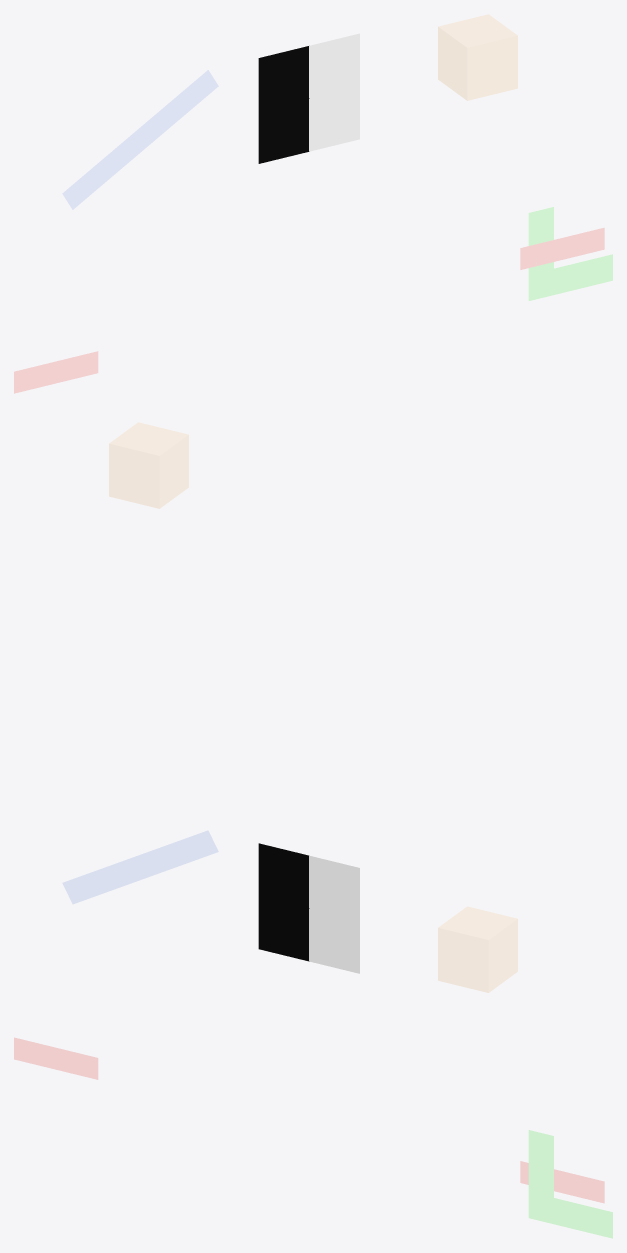
The model's file is emissive_fixture.gltf.
3 views of the same model, one above another, from view 1: azimuth 30°, elevation 25°; view 2: azimuth 150°, elevation 25°; view 3: azimuth 330°, elevation 25° (orthographic).
Visible parts, largest first — view 1: emissive_quad, emissive_box, emissive_split, emissive_strip, emissive_ell; view 2: emissive_box; view 3: emissive_quad, emissive_box, emissive_ell, emissive_strip, emissive_split.
Boxes of the visible parts, x1,y1,x2,y2 form: emissive_quad: (258,33,359,163); emissive_box: (438,14,517,100); emissive_split: (14,227,604,393); emissive_strip: (62,70,218,209); emissive_ell: (528,207,612,300); emissive_box: (109,422,188,508); emissive_quad: (258,843,359,973); emissive_box: (438,906,517,992); emissive_ell: (528,1130,612,1238); emissive_strip: (62,830,218,904); emissive_split: (14,1037,604,1203).
Size of the model in its own units: 7.1 by 3.51 by 0.6.
Materials: 5 (1 with a texture image).
